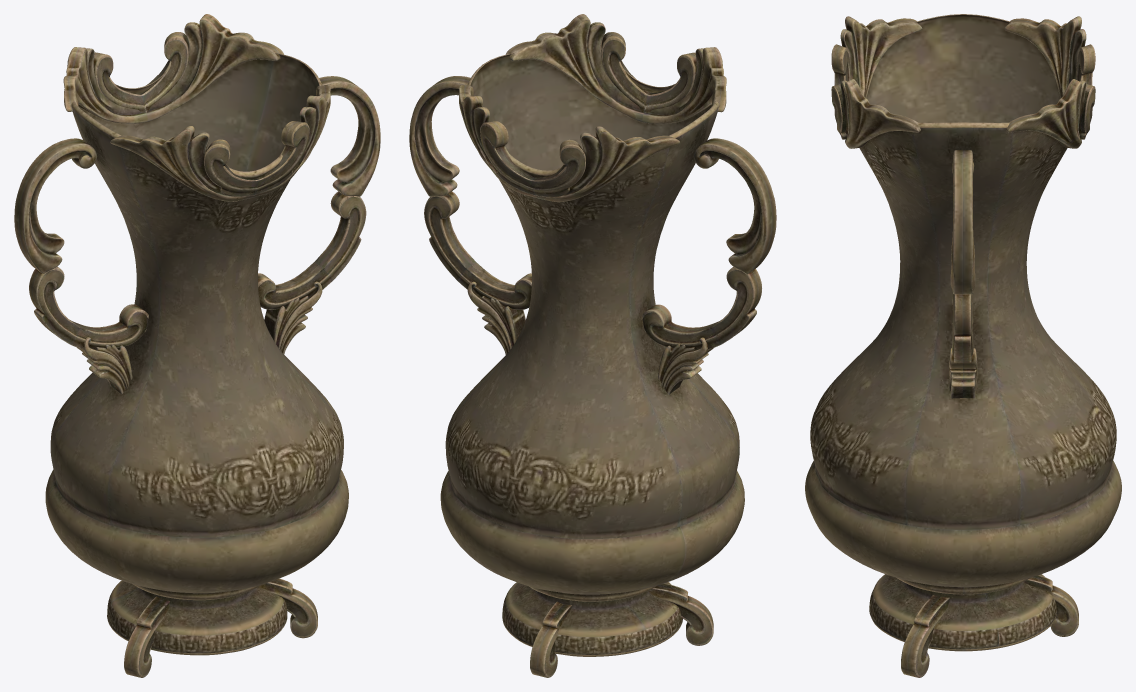
Rendered from 静物_瓶罐_vases_opt_split_20260816092729_std_opt.glb.
3 renders of one model, left to right at view 1: azimuth 30°, elevation 25°; view 2: azimuth 150°, elevation 25°; view 3: azimuth 270°, elevation 25°, orthographic. The views are drawn at different scales.
Parts seen in each view (by area): view 1: mesh_0, mesh_15; view 2: mesh_0, mesh_15; view 3: mesh_0, mesh_15.
Part boxes in pixels (x1=…): mesh_0: x1=45, y1=53, x2=348, y2=655; mesh_15: x1=14, y1=14, x2=380, y2=677; mesh_0: x1=440, y1=53, x2=744, y2=656; mesh_15: x1=409, y1=14, x2=776, y2=677; mesh_0: x1=805, y1=14, x2=1121, y2=651; mesh_15: x1=831, y1=16, x2=1095, y2=677.
Bounding box in the file's own units: 0.1981 × 0.3 × 0.1475.
2 materials, 2 textured.
